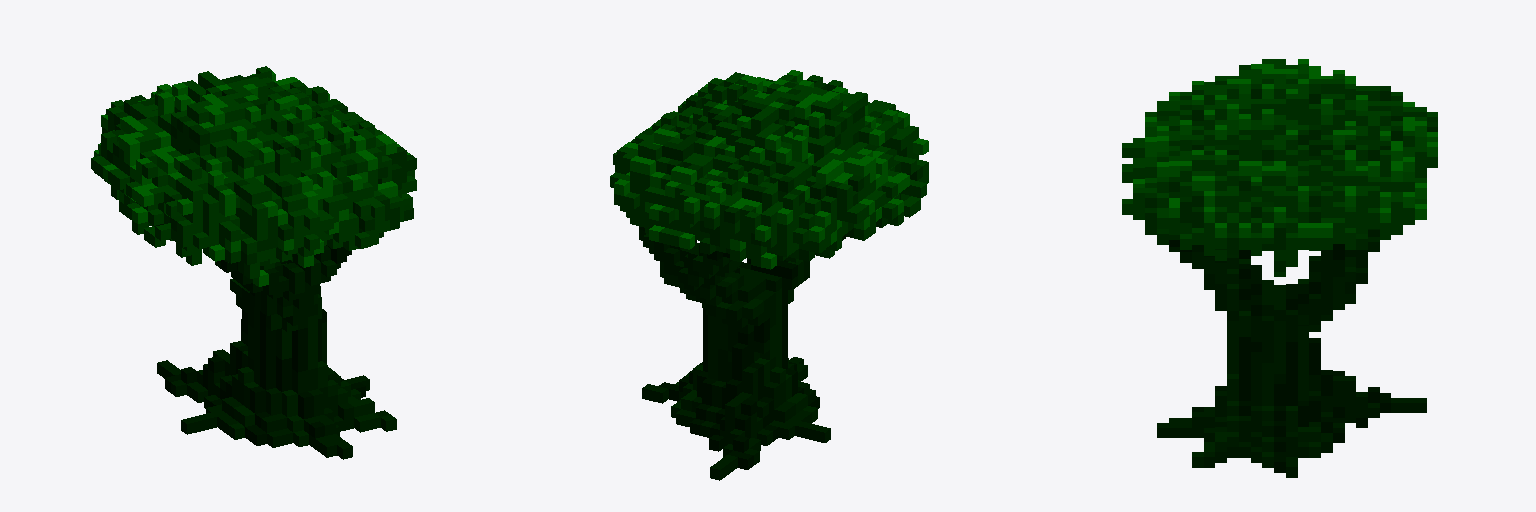
3 renders of one model, left to right at view 1: azimuth 30°, elevation 25°; view 2: azimuth 150°, elevation 25°; view 3: azimuth 270°, elevation 25°, orthographic.
Visible parts, largest first — view 1: tree; view 2: tree; view 3: tree.
Boxes of the visible parts, <box> form: tree: <box>91,66,416,459</box>; tree: <box>610,70,928,480</box>; tree: <box>1122,59,1437,477</box>.
Size of the model in its own units: 25 by 31 by 27.
1 materials, 1 textured.